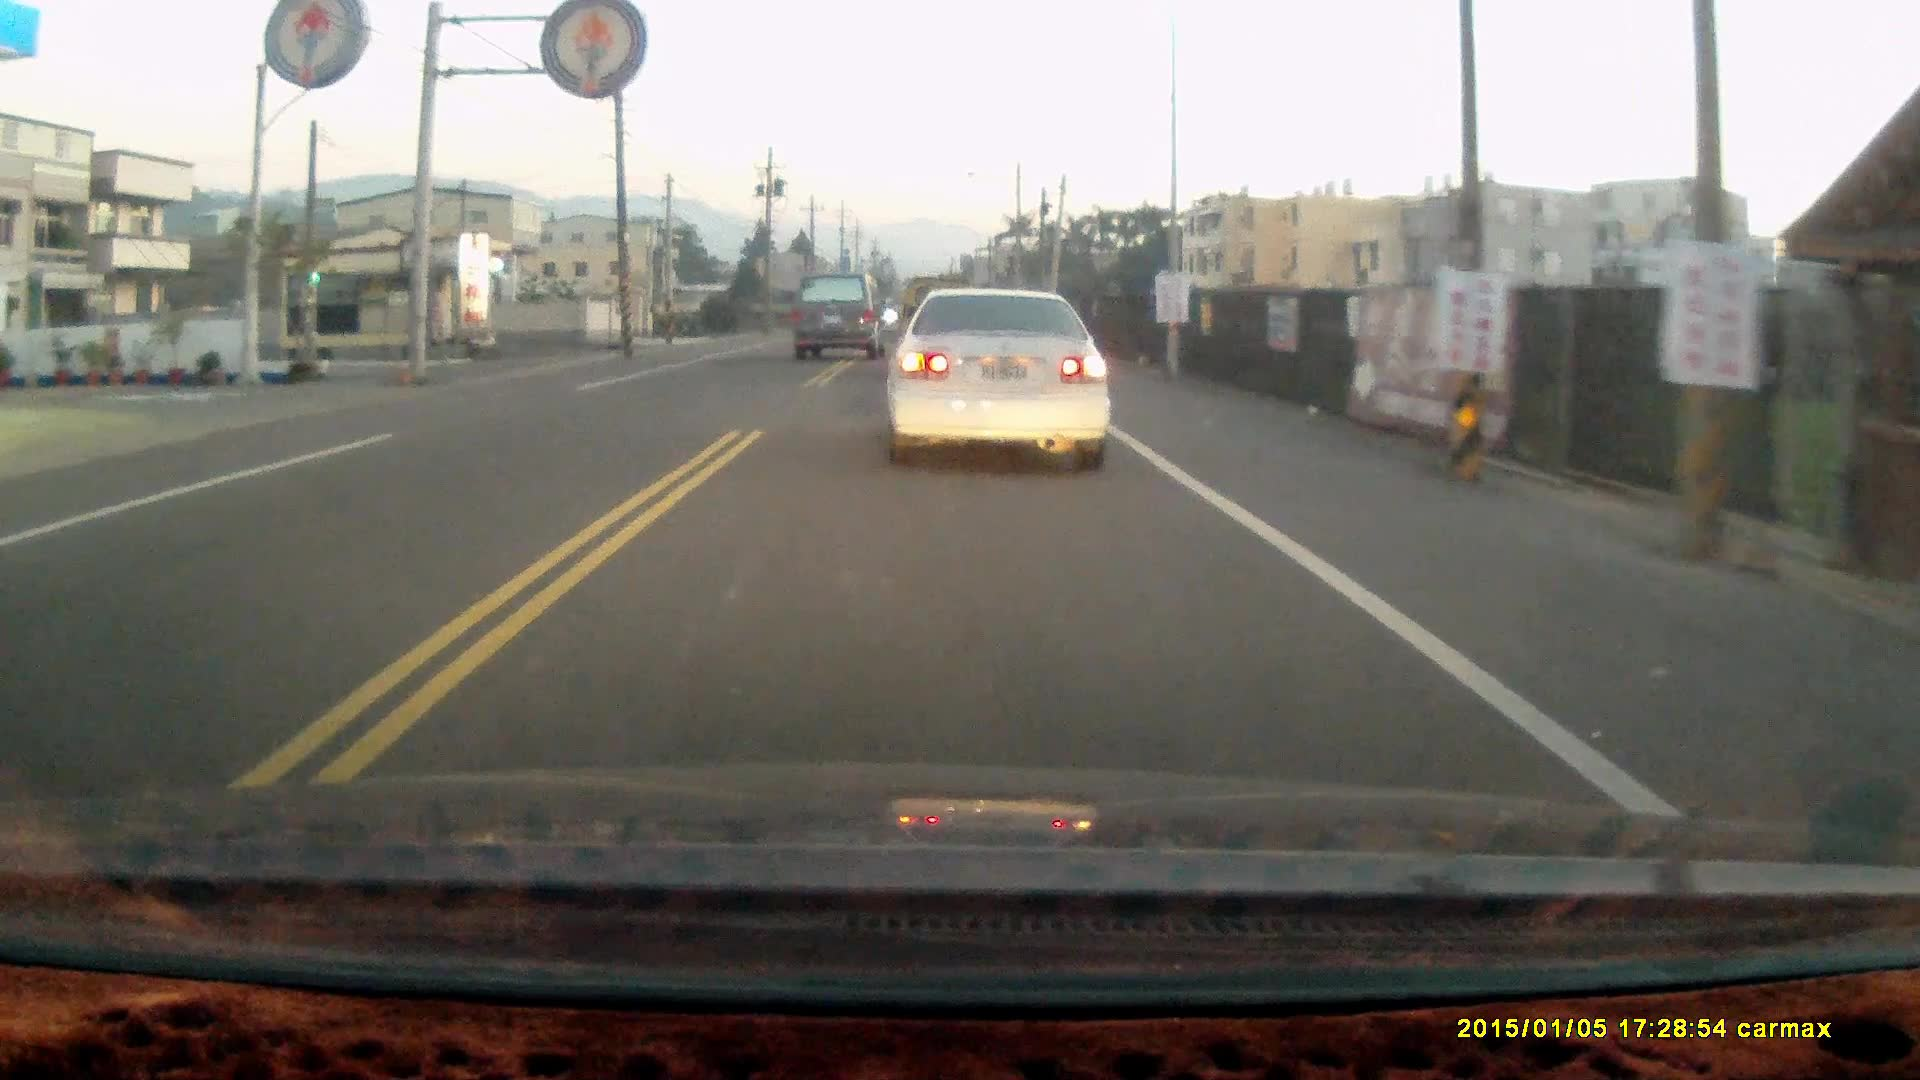vehicle: (881, 287, 1121, 477), (785, 272, 891, 367)
